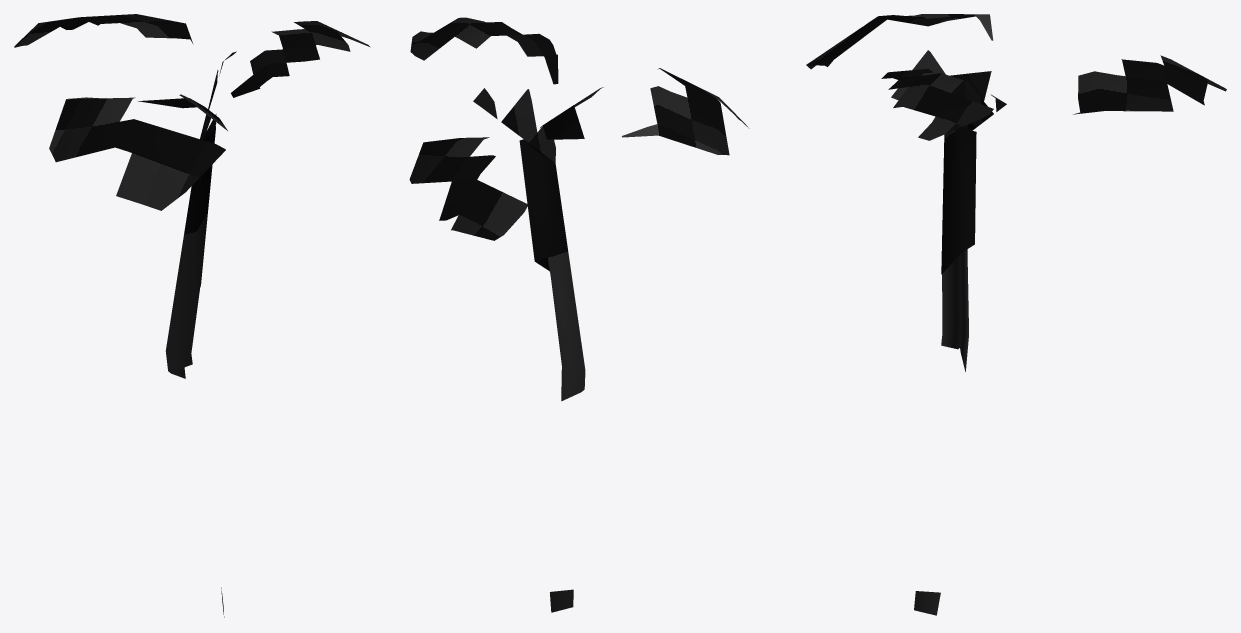
The model's file is cliffFoliage02.fbx.
3 renders of one model, left to right at view 1: azimuth 30°, elevation 25°; view 2: azimuth 150°, elevation 25°; view 3: azimuth 270°, elevation 25°, orthographic. The views are drawn at different scales.
Parts seen in each view (by area): view 1: polySurface45; view 2: polySurface45; view 3: polySurface45.
Boxes of the visible parts, box(x1,y1,x2,y2) form: polySurface45: box(14, 14, 370, 617); polySurface45: box(409, 17, 749, 612); polySurface45: box(806, 14, 1226, 615).
Bounding box in the file's own units: 0.4727 × 0.7823 × 0.521.
